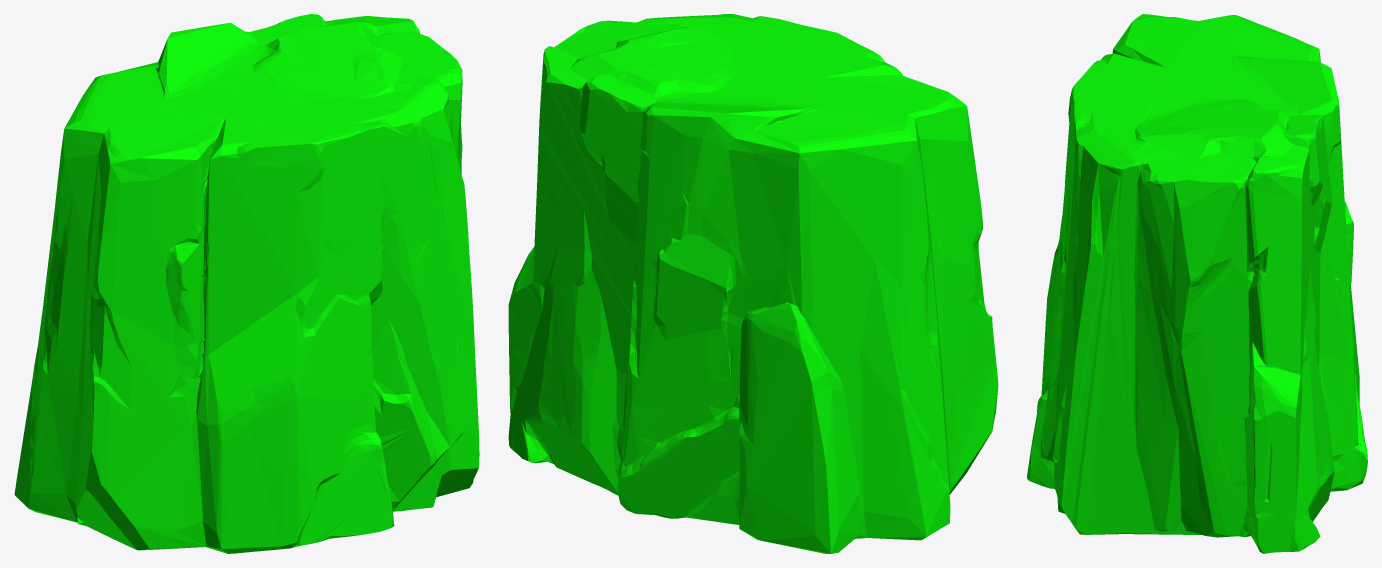
Rendered from SM_Iceberg_Big_C_Rock.fbx.
The picture shows the model from 3 angles, left to right: view 1: azimuth 30°, elevation 25°; view 2: azimuth 150°, elevation 25°; view 3: azimuth 270°, elevation 25°; orthographic projection. The views are drawn at different scales.
Visible parts, largest first — view 1: SM_Iceberg_Big_C_Rock; view 2: SM_Iceberg_Big_C_Rock; view 3: SM_Iceberg_Big_C_Rock.
Part boxes in pixels (x1,y1,x2,y2): SM_Iceberg_Big_C_Rock: (14, 14, 479, 553); SM_Iceberg_Big_C_Rock: (508, 14, 998, 553); SM_Iceberg_Big_C_Rock: (1027, 14, 1367, 553).
Size of the model in its own units: 26.24 by 24.3 by 19.17.
